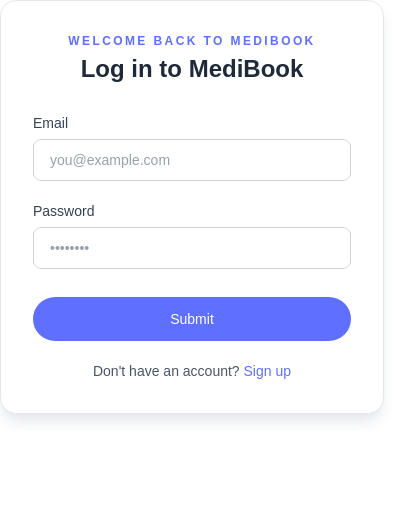
Test case: Authentication Form › should show validation errors for invalid login input
In the field labelled "Email": (192, 160) [33,139,351,181], type "abc"
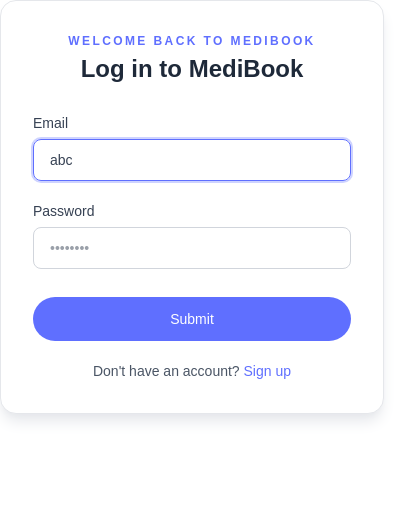
In the password field labelled "Password": (192, 248) [33,227,351,269], type "abcdefgh"
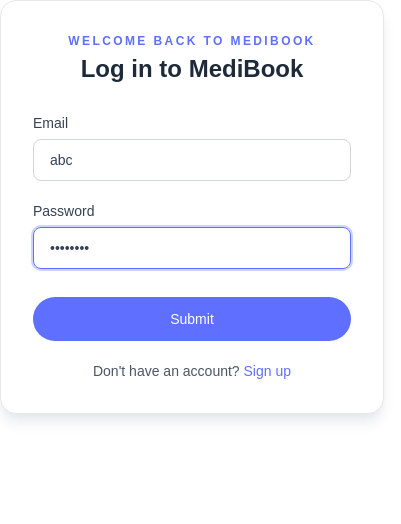
Click the button "Submit": (192, 319) [33,297,351,341]
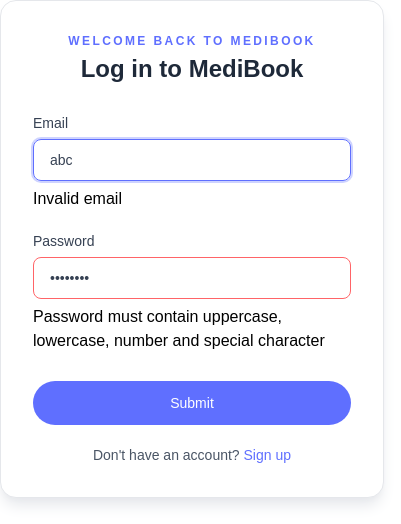
expect the text "Invalid email" is shown: met, box [33,190,122,207]
expect the text "Password must contain uppercase, lowercase, number and special character" is shown: met, box [33,305,351,353]
